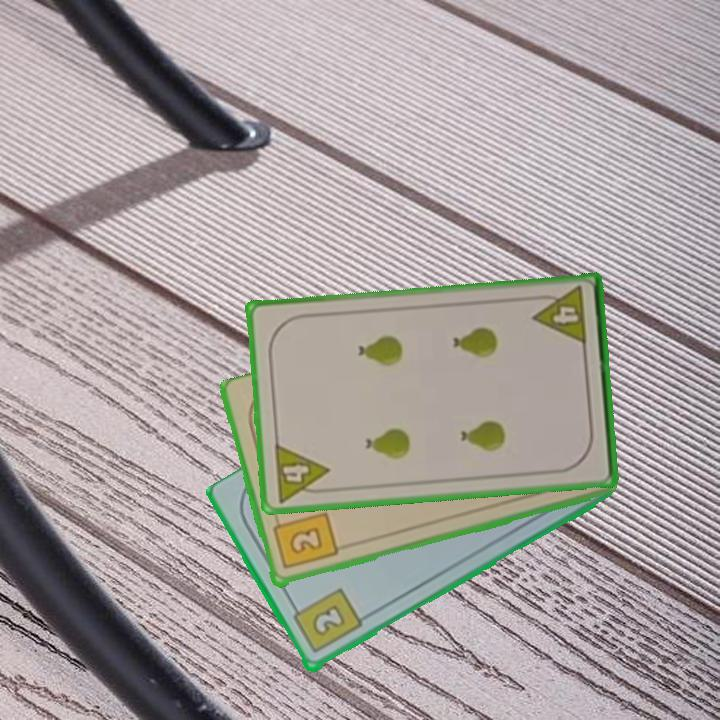2b: (287, 585, 365, 657), (269, 509, 340, 572)
4p: (270, 440, 333, 505), (529, 283, 590, 348)
